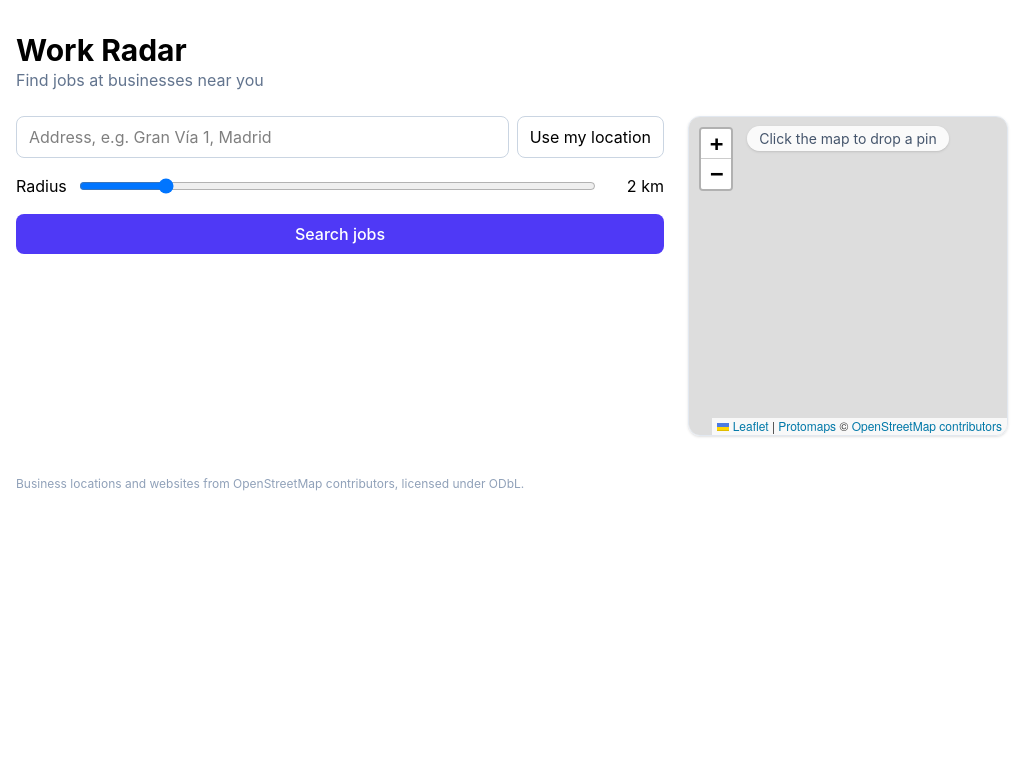
it: opening a business shows a summary of each posting beside the list
Type "Écublens" into the dropdown with placeholder "Address, e.g. Gran Vía 1, Madrid".
click(262, 137); type("Écublens")  # box [16,116,509,158]
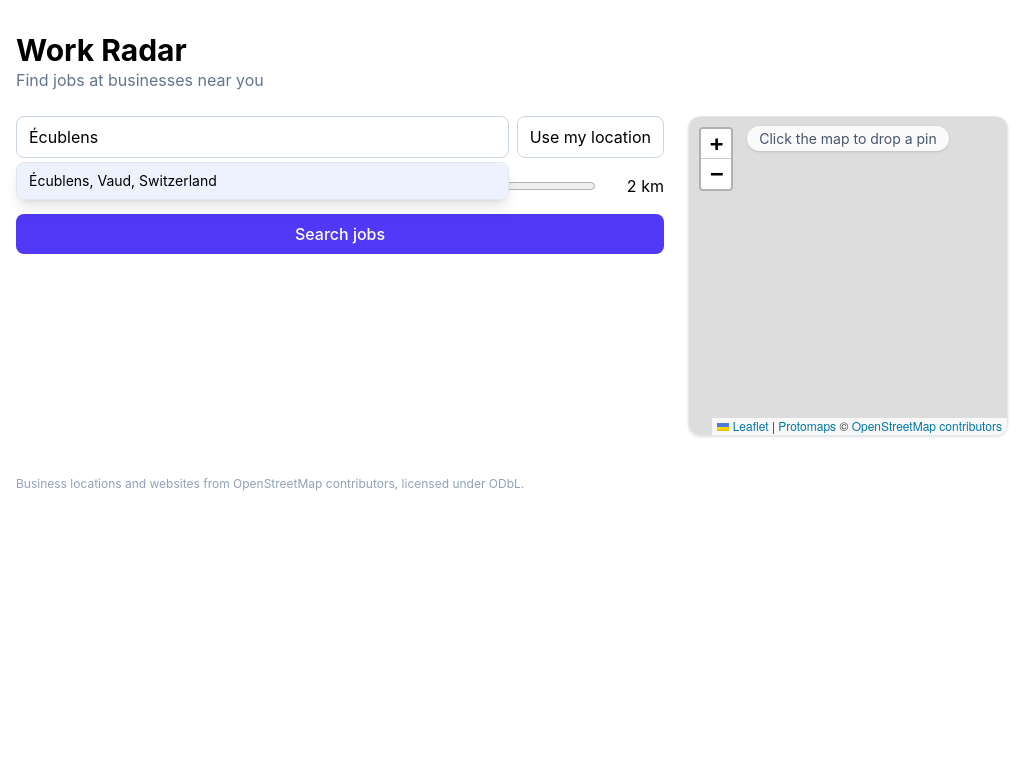
Press the mouse on the button "Écublens, Vaud, Switzerland" at coordinates (123, 180), box [17,163,508,199]
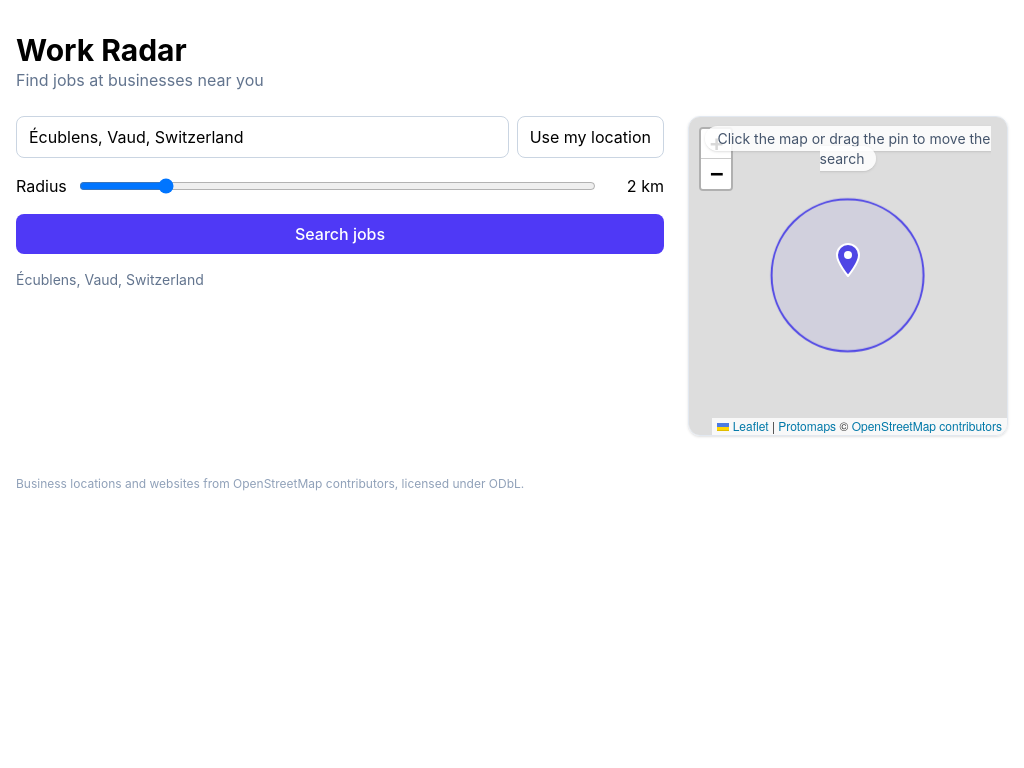
Click the button "Search jobs".
click(340, 234)  # box [16,214,664,254]
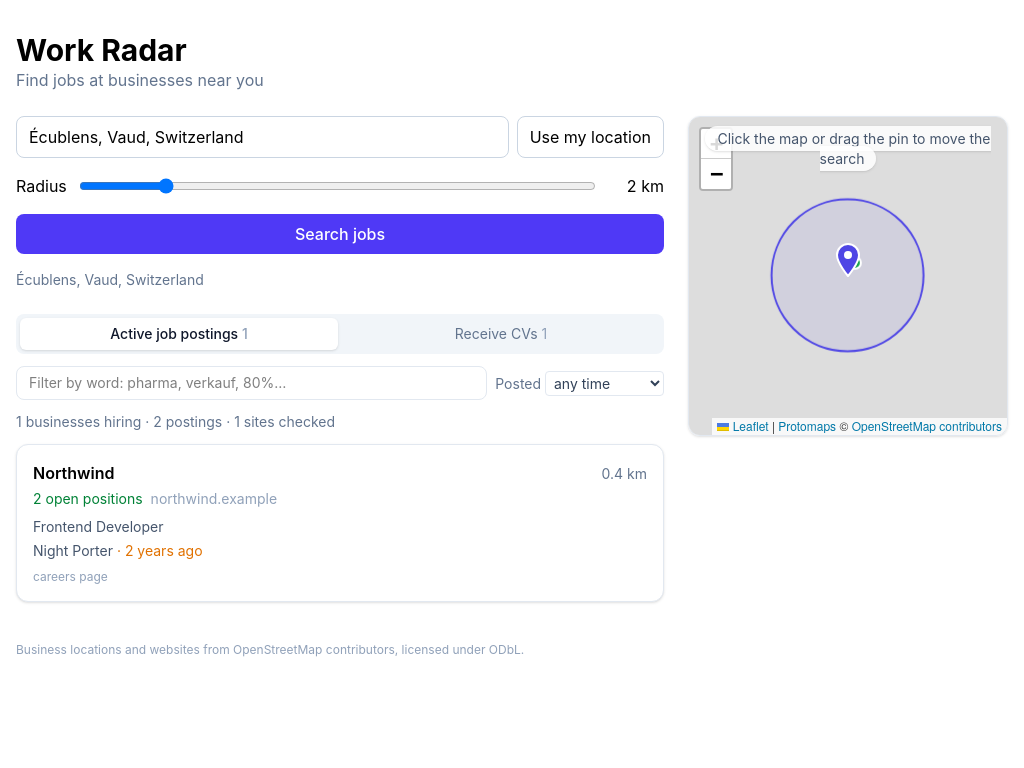
Click the heading "Northwind".
click(74, 473)  # box [33,461,114,485]
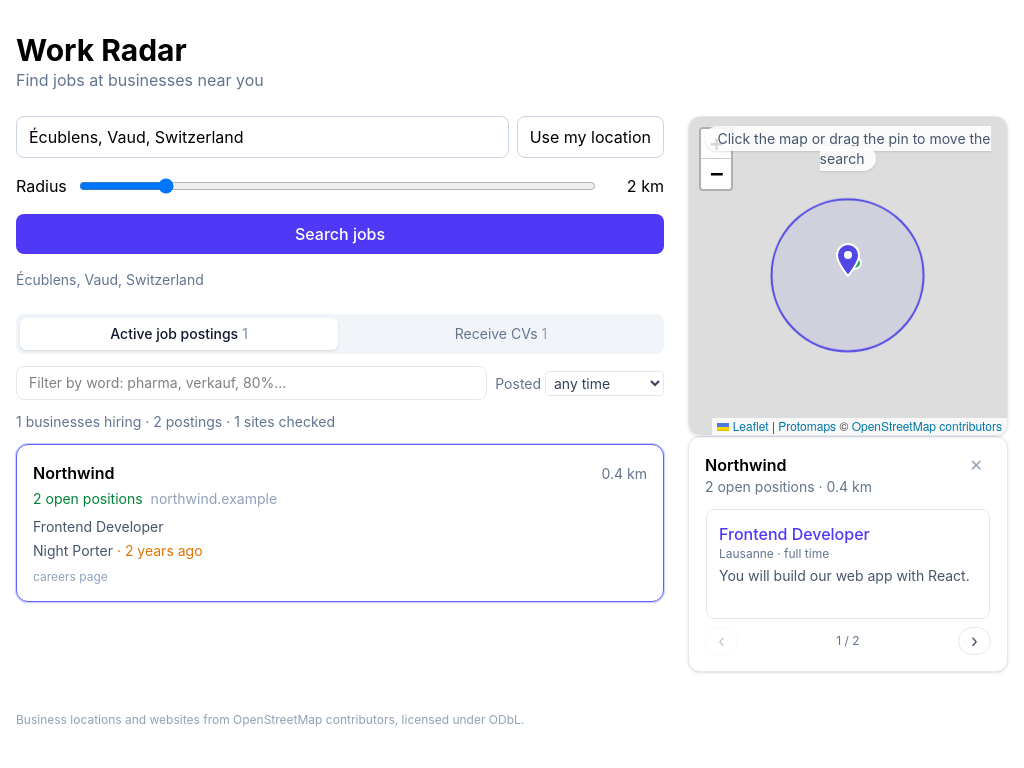
Now the text "You will build our web app with React." is shown, box [719,566,977,586]
Now the text "2 open positions · 0.4 km" is shown, box [705,477,872,497]
